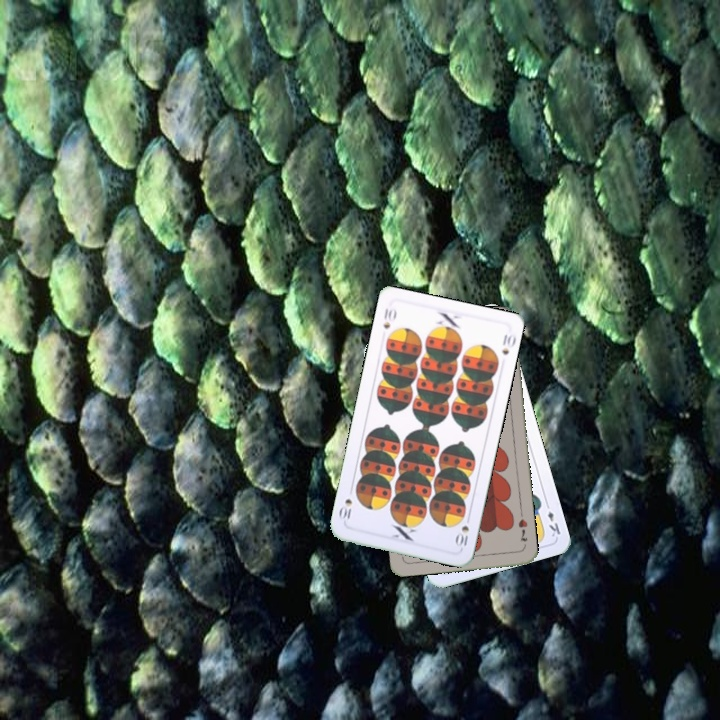EK: (541, 499, 563, 539)
H7: (514, 515, 530, 544)
S10: (452, 511, 473, 551), (379, 304, 399, 332)
